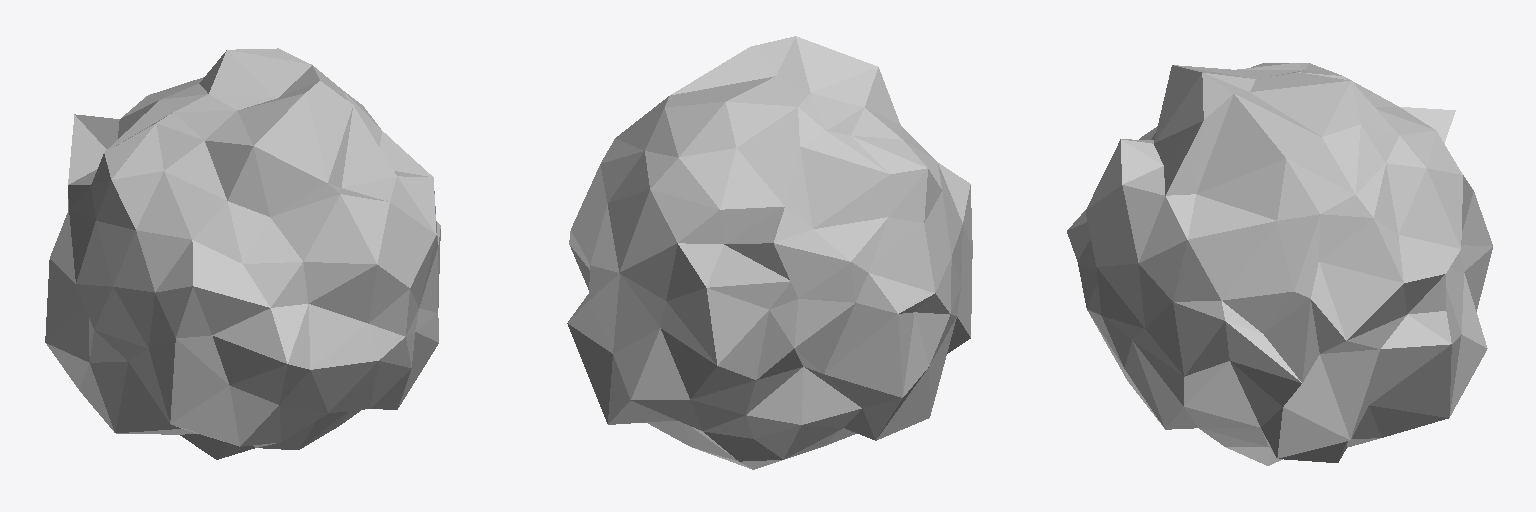
The model's file is fire_000014.obj.
3 views of the same model, side by side, from view 1: azimuth 30°, elevation 25°; view 2: azimuth 150°, elevation 25°; view 3: azimuth 270°, elevation 25° (orthographic).
Visible parts, largest first — view 1: Icosphere; view 2: Icosphere; view 3: Icosphere.
Part boxes in pixels (bbox=[...]): Icosphere: bbox=[45, 48, 440, 459]; Icosphere: bbox=[567, 36, 972, 469]; Icosphere: bbox=[1067, 63, 1492, 465].
Bounding box in the file's own units: 1.52 × 1.57 × 1.61.